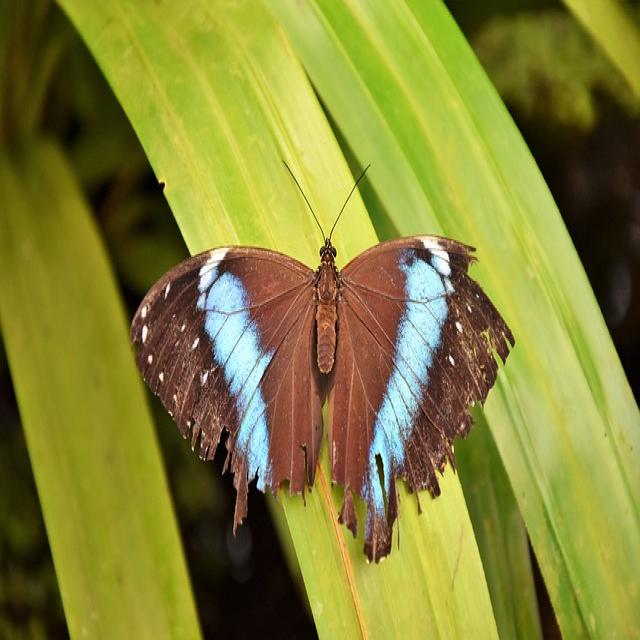butterfly: (129, 237, 514, 560)
